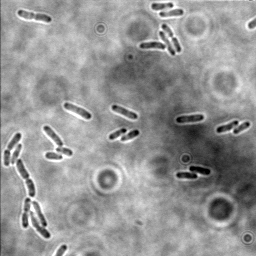Dividing: (160, 22, 183, 54), (16, 8, 52, 24)
Microcolony: (3, 132, 51, 240)
Rod: (62, 101, 93, 121), (42, 124, 64, 148), (110, 104, 139, 121), (158, 30, 176, 57), (215, 119, 239, 135), (174, 113, 205, 124), (120, 128, 142, 142), (107, 126, 127, 141), (232, 119, 252, 134), (188, 164, 213, 176), (158, 7, 185, 18), (137, 40, 166, 50), (54, 146, 74, 158), (150, 2, 175, 11), (175, 171, 200, 180), (43, 151, 64, 161)
